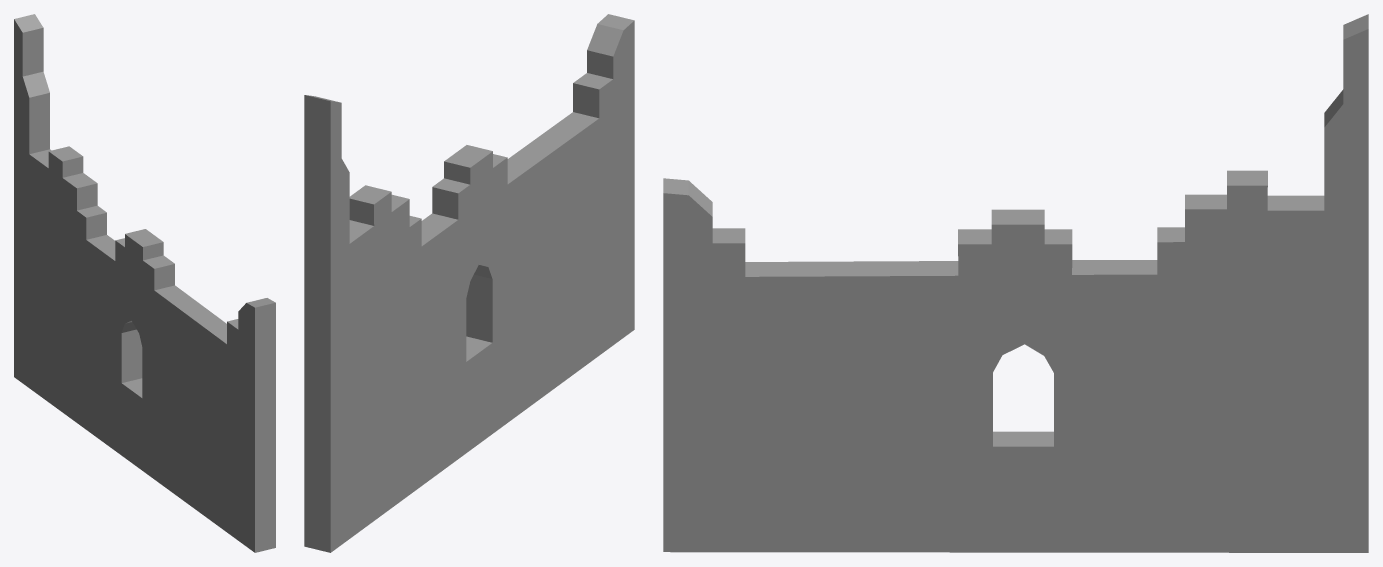
File: wall_3.fbx
The picture shows the model from 3 angles, left to right: view 1: azimuth 30°, elevation 25°; view 2: azimuth 150°, elevation 25°; view 3: azimuth 270°, elevation 25°; orthographic projection. The views are drawn at different scales.
Visible parts, largest first — view 1: Object.017; view 2: Object.017; view 3: Object.017.
Part boxes in pixels (<box>): Object.017: <box>14,14,275,552</box>; Object.017: <box>304,14,634,552</box>; Object.017: <box>663,14,1368,552</box>.
Bounding box in the file's own units: 60 × 987 × 1204.
